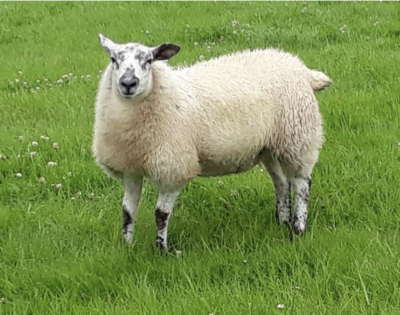koyun: (96, 32, 333, 251)
